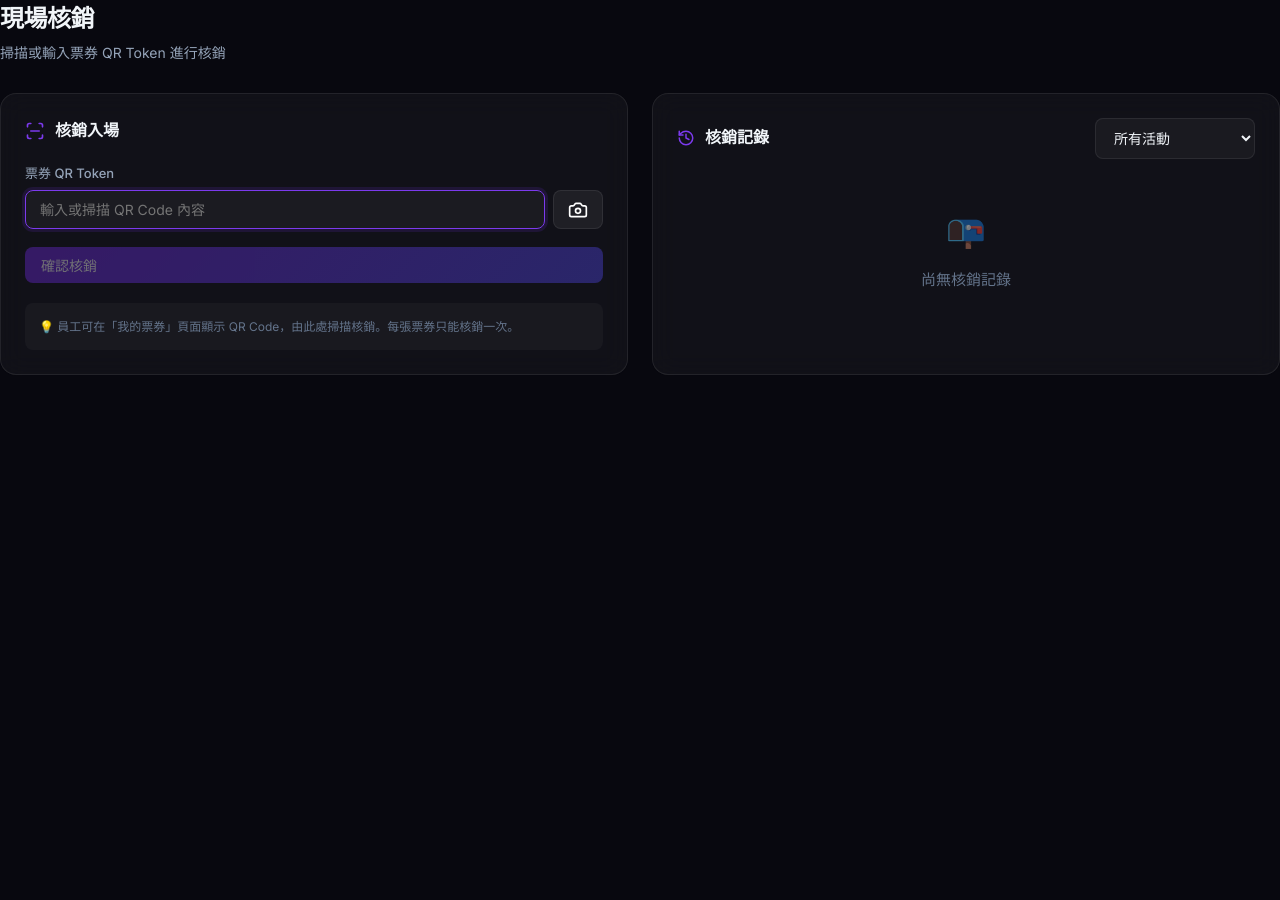
Scenario: CheckIn › 可以開啟相機掃描 modal，遇到相機錯誤時顯示錯誤並可關閉
Click the button titled "開啟相機掃描" at (578, 210), box [553, 190, 603, 229]
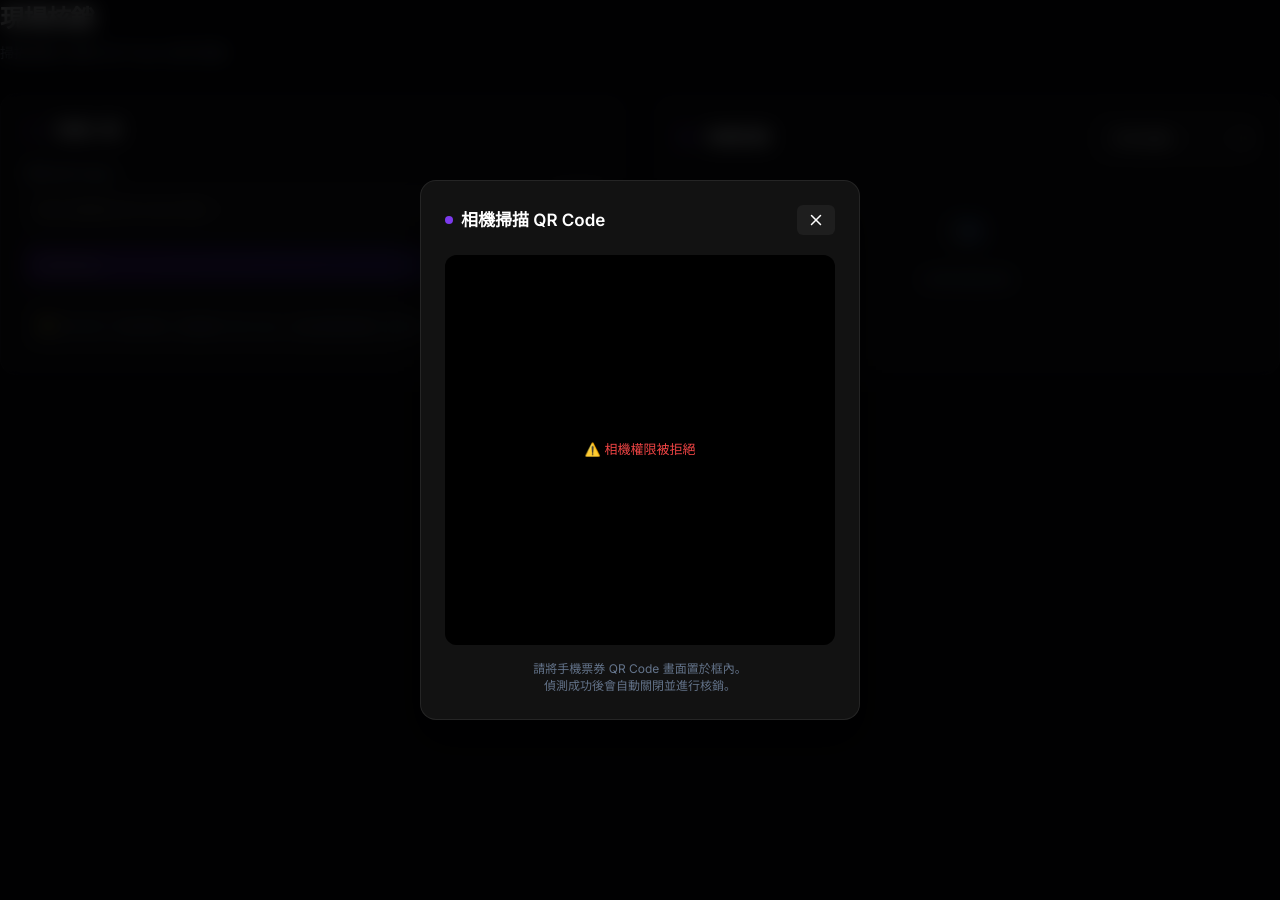
Now the heading "相機掃描 QR Code" is shown, box [461, 207, 605, 234]
Now the text "⚠️ 相機權限被拒絕" is shown, box [584, 442, 695, 458]
Click the button at (816, 220), box [797, 205, 835, 235]
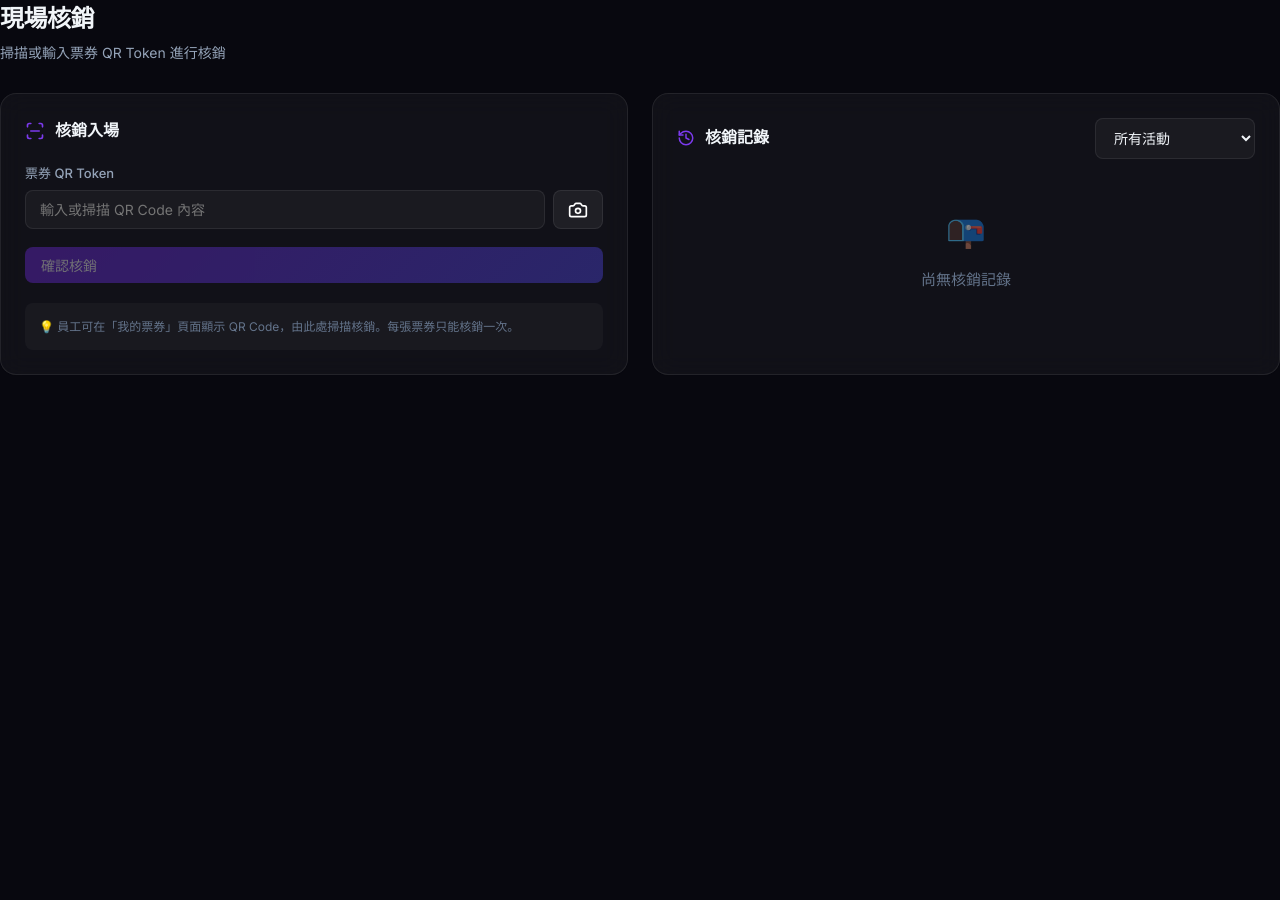
Now the heading "相機掃描 QR Code" is gone
